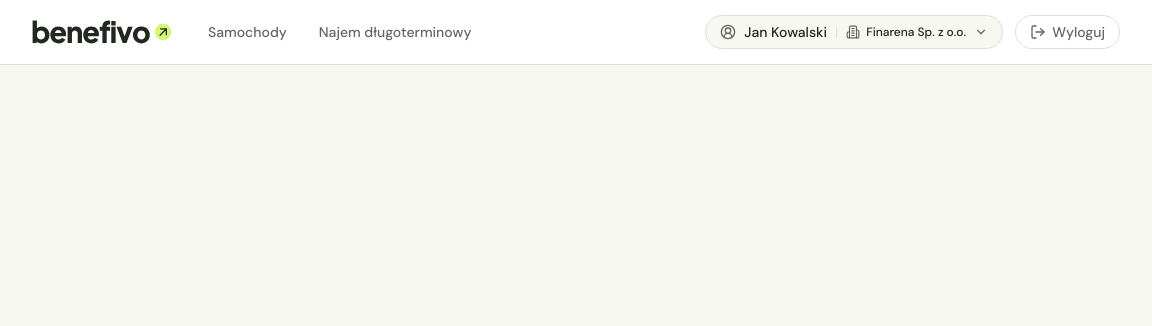
Scenario: PortalHeader Component (Zakres 10 Single Brand) › renders user menu button and opens dropdown menu with Moje dane, Zmiana hasła and Wyloguj
Expected: the link "Moje zapytania" is not shown
// Click to open
Click the button with aria-label "Menu użytkownika: Jan Kowalski" at (854, 32), box [705,15,1003,49]
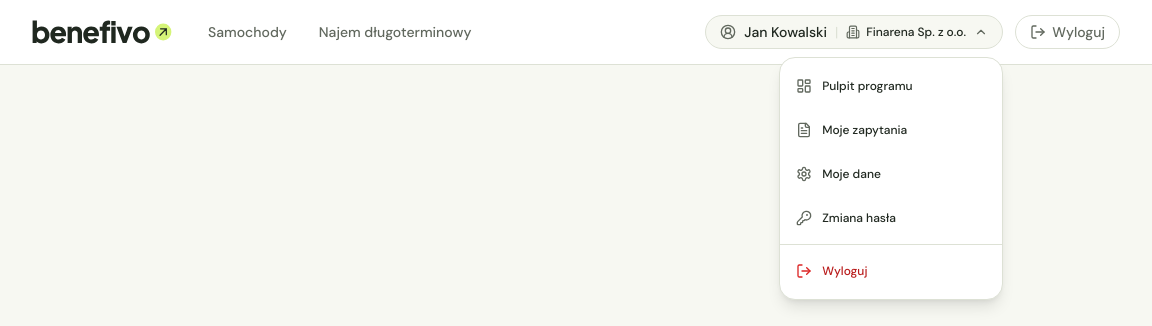
Now the button with aria-label "Menu użytkownika: Jan Kowalski" is expanded, box [705,15,1003,49]
Now the menu item "Pulpit programu" is shown, box [796,78,913,94]
Now the menu item "Moje zapytania" is shown, box [796,122,907,138]
// Press Escape to close
Press Escape
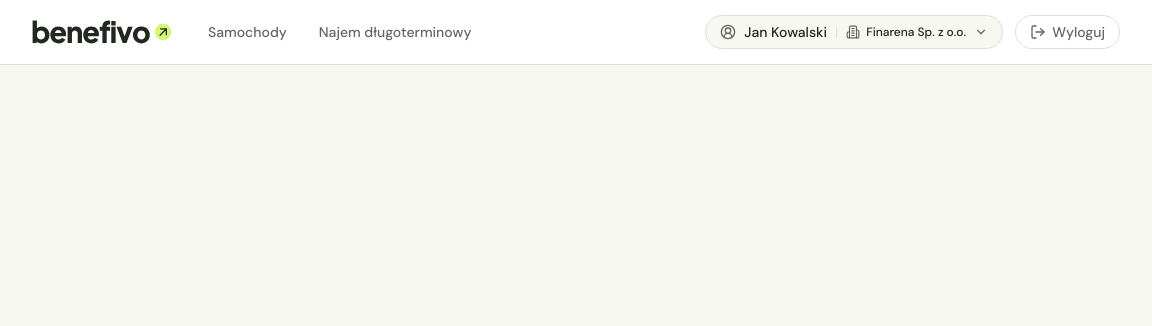
Now the button with aria-label "Menu użytkownika: Jan Kowalski" is collapsed, box [705,15,1003,49]
